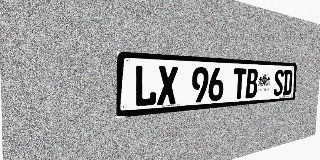6: (208, 67, 224, 101)
9: (191, 67, 209, 103)
B: (245, 69, 258, 98)
D: (283, 70, 293, 95)
L: (134, 65, 157, 107)
S: (273, 70, 284, 96)
T: (232, 68, 246, 99)
X: (157, 66, 178, 106)
